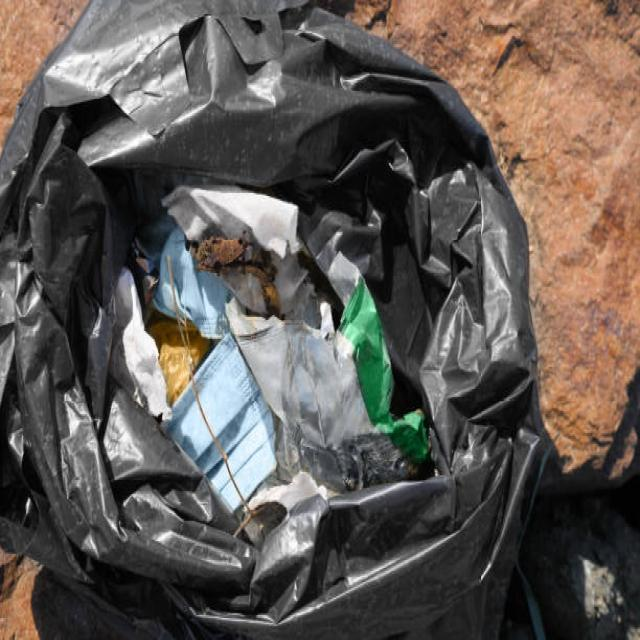plastic: (233, 38, 423, 458)
